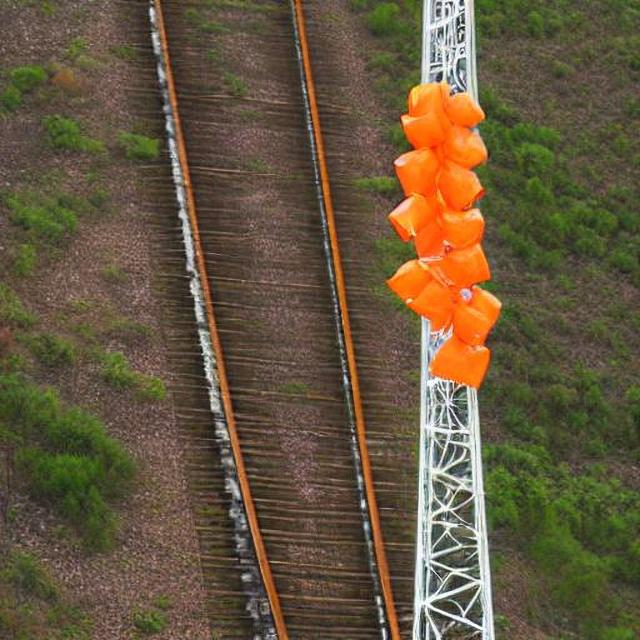plastic bag: (377, 76, 500, 376)
